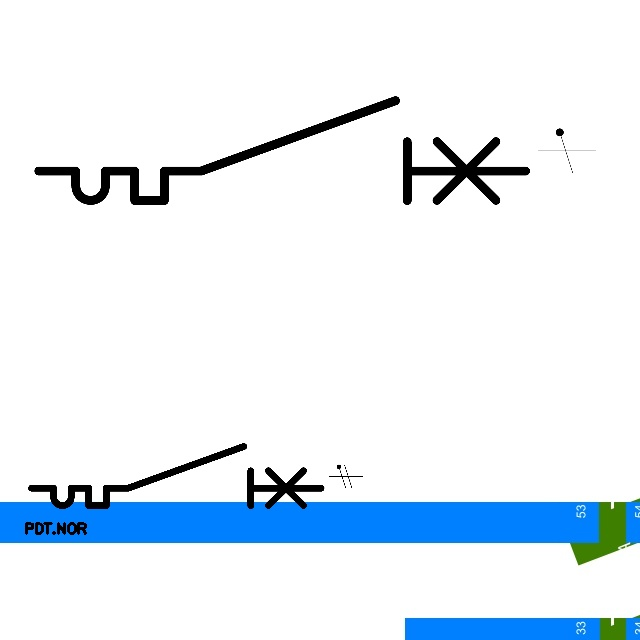interruptor_termomagnetico: (26, 88, 538, 213), (24, 439, 328, 513)
